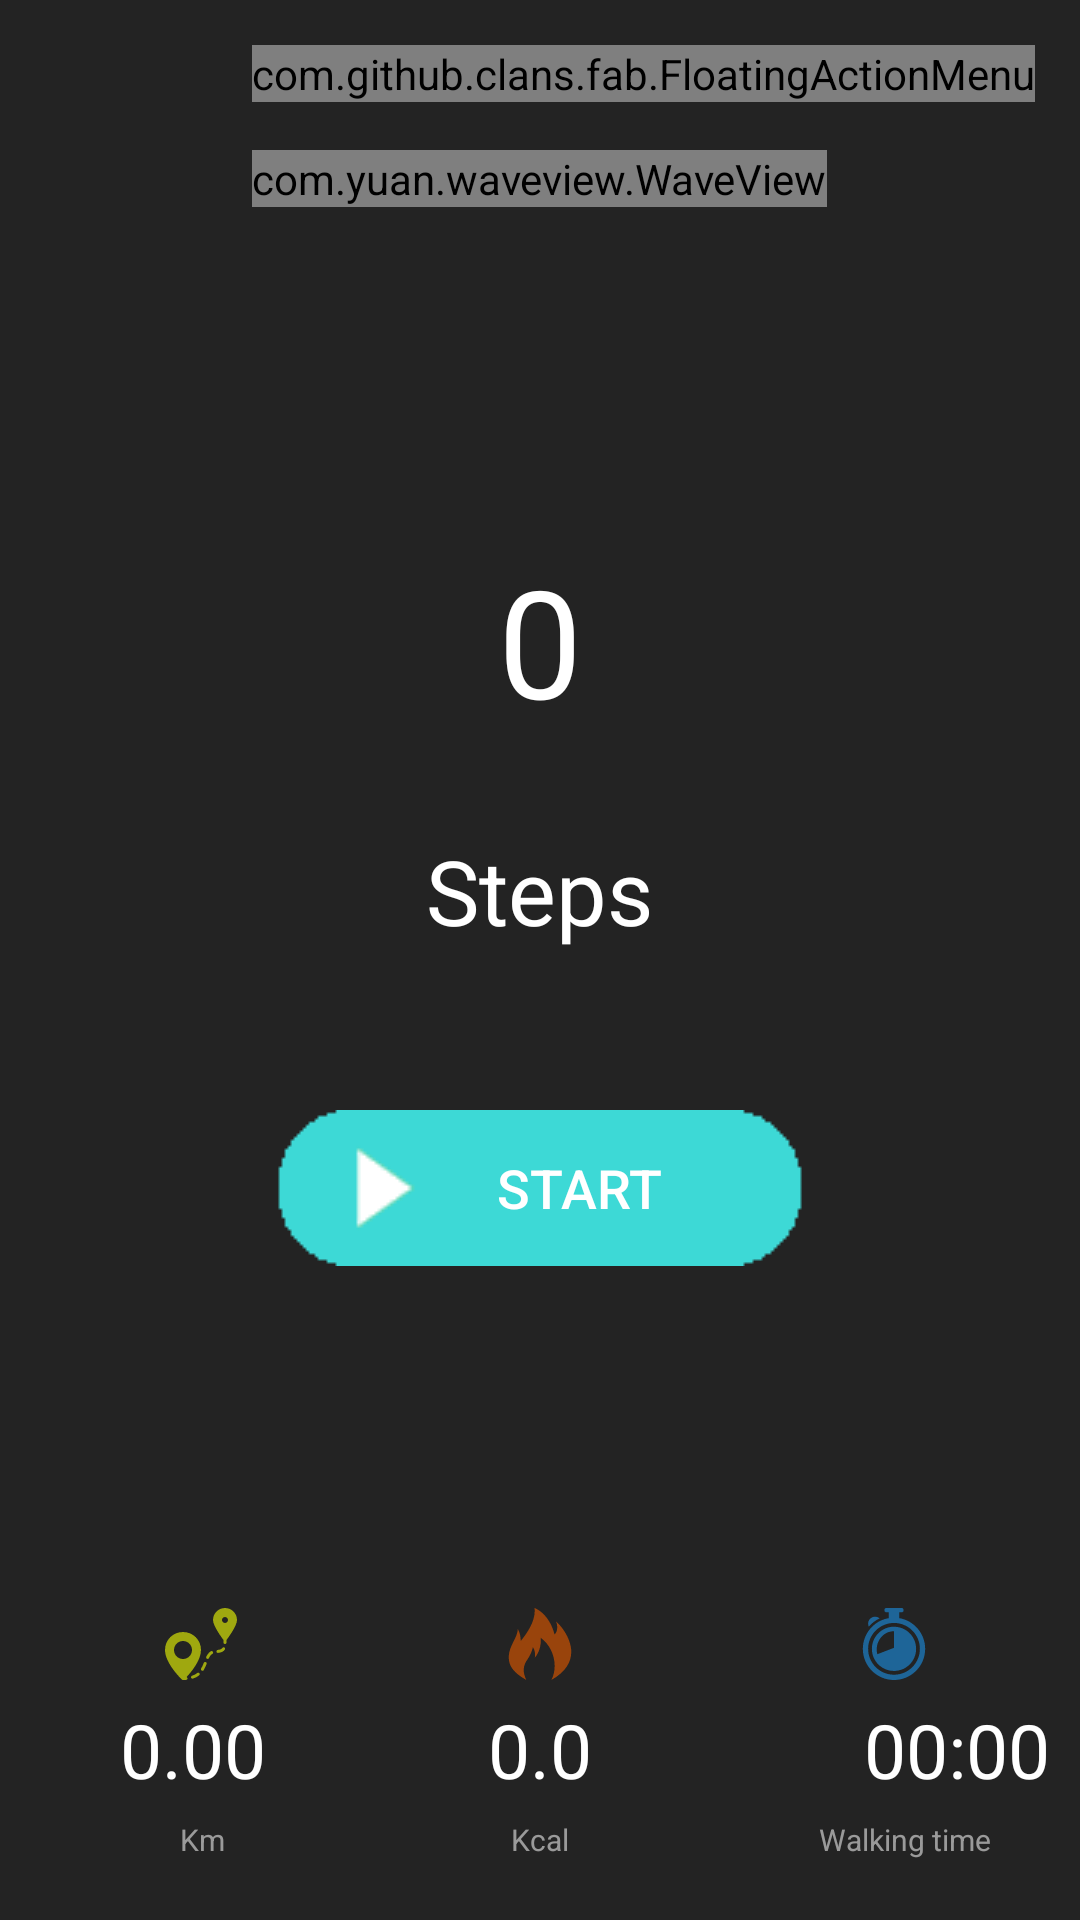

Named icons in this screenshot (1080w x 1920h) and their bounding boxes, (x1, y1, x2, y2):
calories: (508, 1608, 572, 1680)
distance: (165, 1608, 237, 1680)
stopwatch: (862, 1608, 926, 1680)
